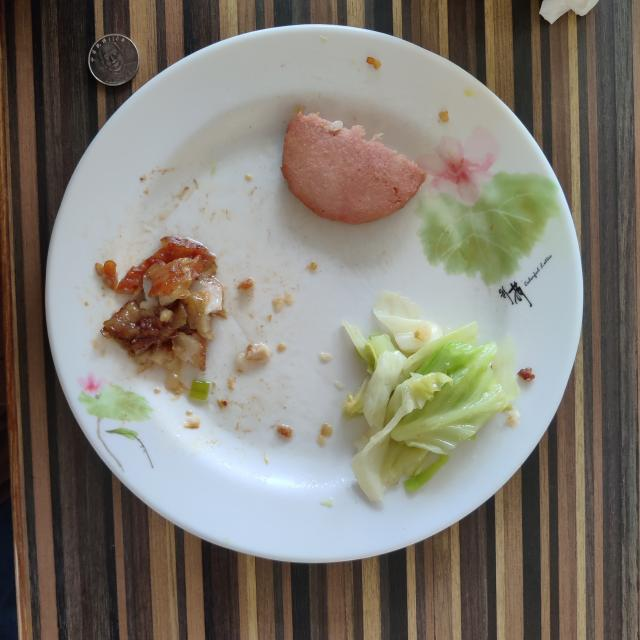Kabayaki sea bream fillet: (95, 236, 222, 392)
Spam: (281, 112, 426, 224)
cabbage: (341, 291, 519, 501)
coin: (89, 34, 140, 86)
